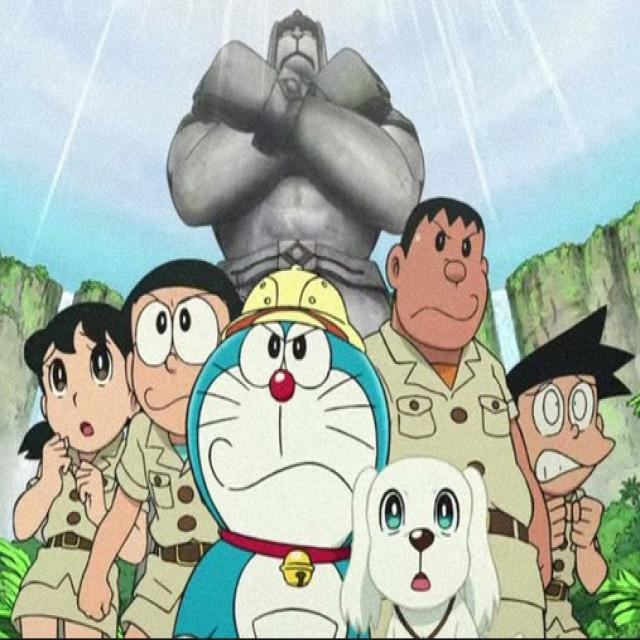doraemon: (178, 296, 399, 585), (10, 294, 158, 480)
jaian: (386, 184, 509, 380)
nobita: (122, 248, 248, 442)
suneo: (490, 299, 639, 535)
